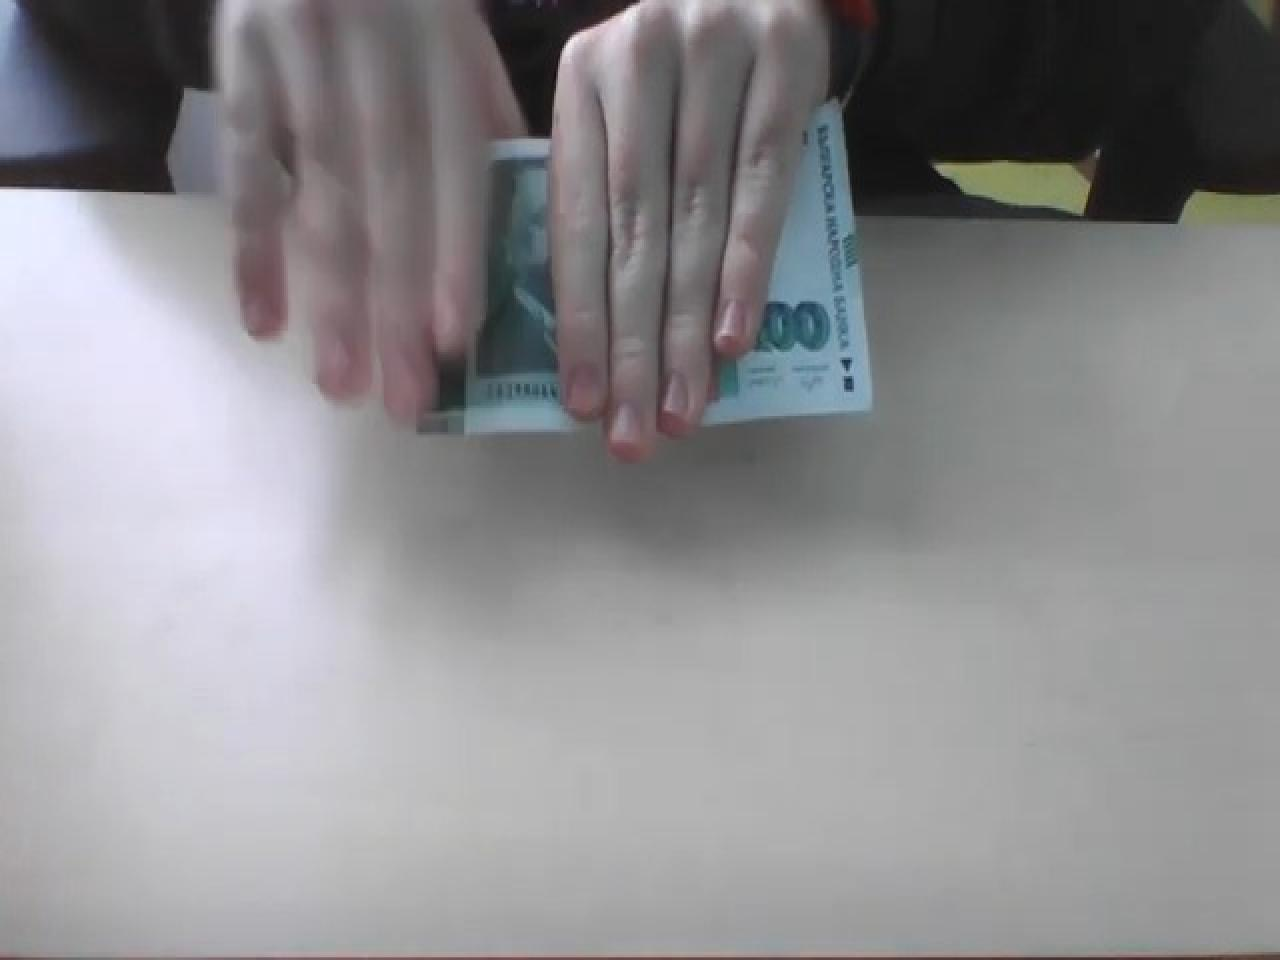100leva: (416, 96, 874, 443), (752, 296, 833, 355)
